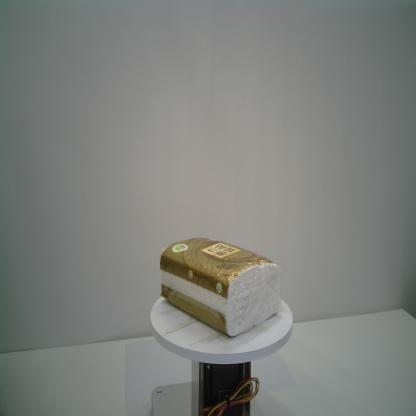Tissue: (159, 237, 282, 337)
